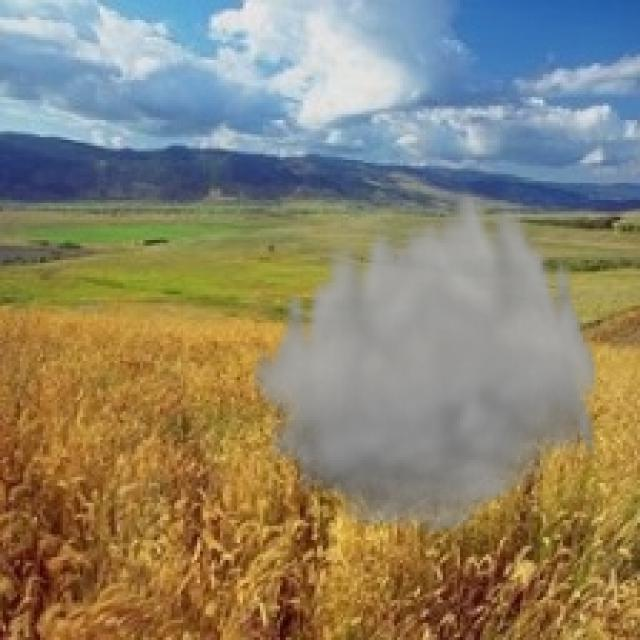smoke: (246, 174, 603, 543)
